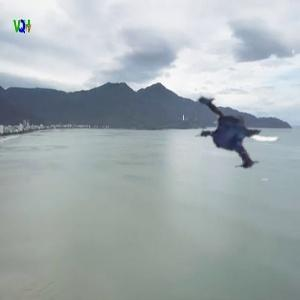drone: (180, 77, 297, 194)
